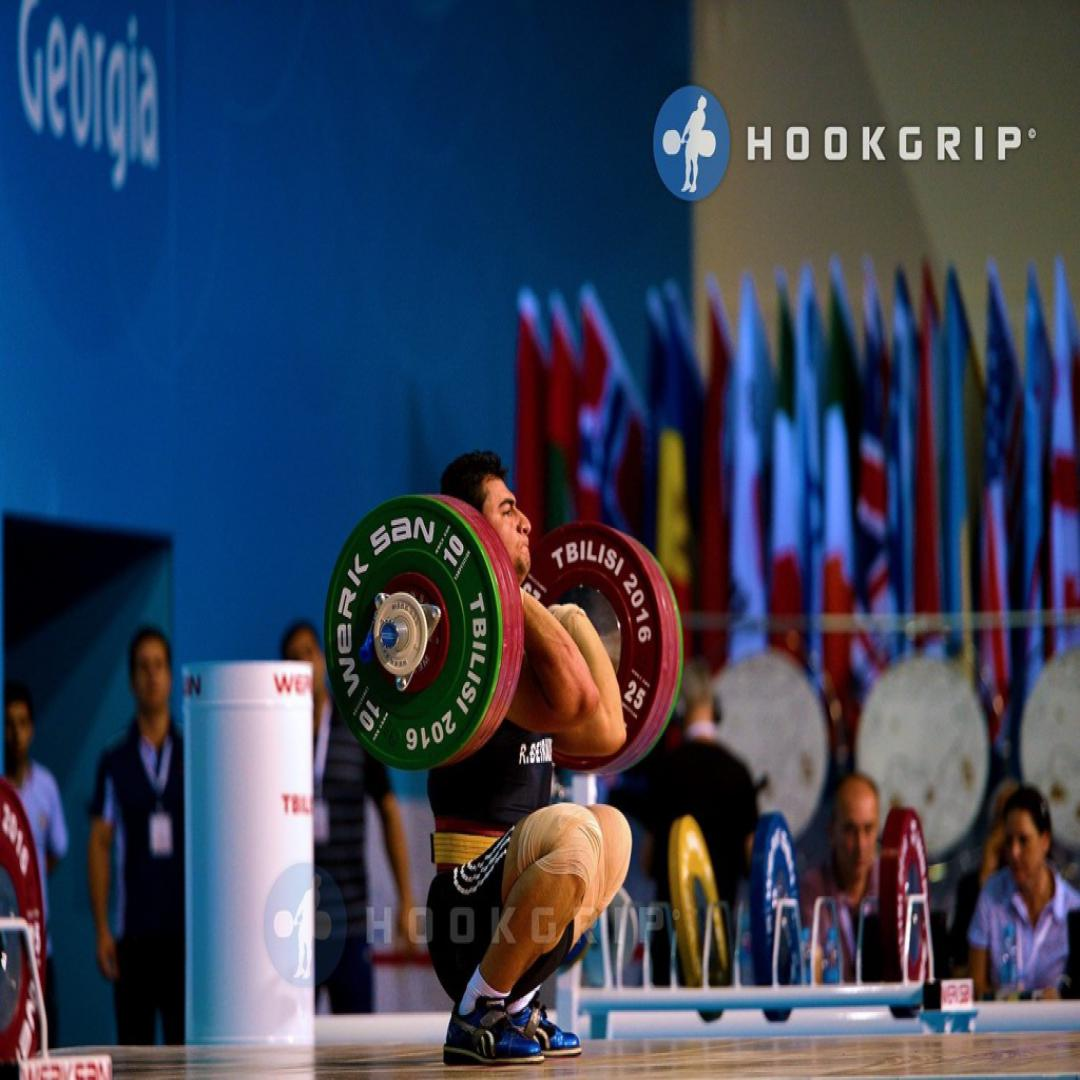Bar: (378, 618, 398, 652)
Barbell: (326, 492, 500, 766)
